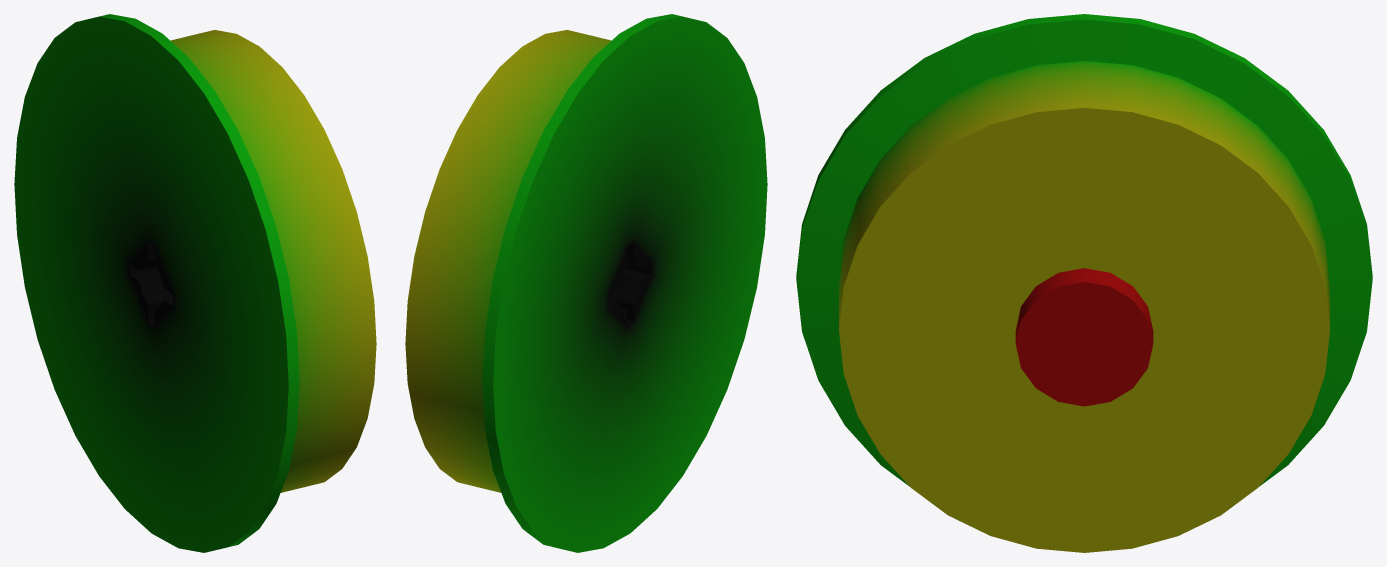
File: SM_TrainWheel_3x2s.gltf
The picture shows the model from 3 angles, left to right: view 1: azimuth 30°, elevation 25°; view 2: azimuth 150°, elevation 25°; view 3: azimuth 270°, elevation 25°; orthographic projection. The views are drawn at different scales.
Visible parts, largest first — view 1: SM_TrainWheel_3x2s; view 2: SM_TrainWheel_3x2s; view 3: SM_TrainWheel_3x2s.
Part boxes in pixels (x1,y1,x2,y2): SM_TrainWheel_3x2s: [14, 14, 376, 552]; SM_TrainWheel_3x2s: [405, 14, 767, 552]; SM_TrainWheel_3x2s: [796, 14, 1372, 552].
Bounding box in the file's own units: 0.25 × 0.8798 × 0.8798.
